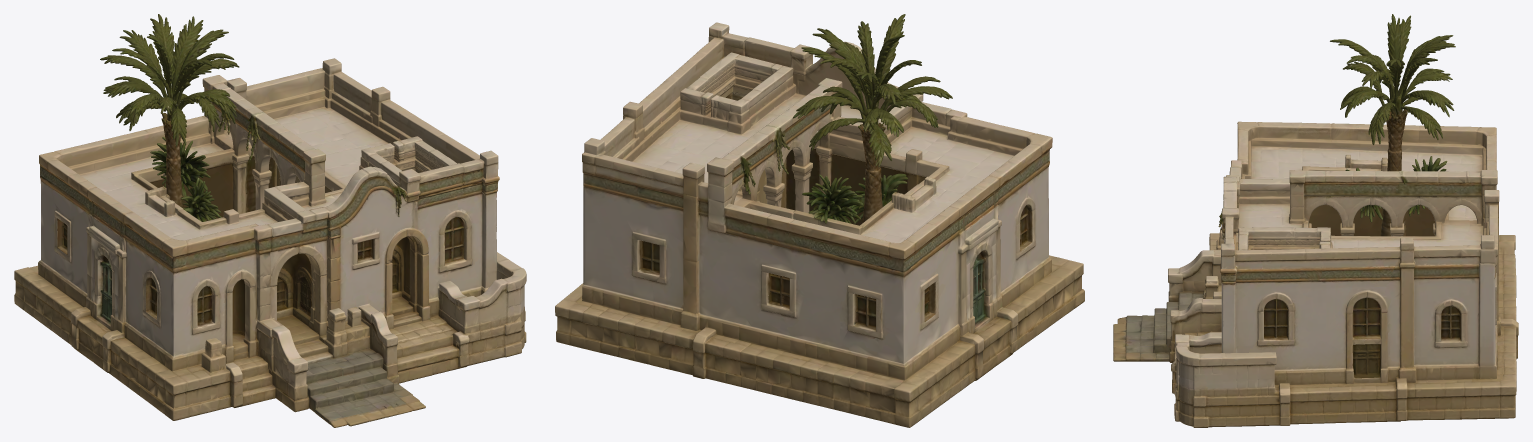
Rendered from persian.glb.
The picture shows the model from 3 angles, left to right: view 1: azimuth 30°, elevation 25°; view 2: azimuth 150°, elevation 25°; view 3: azimuth 270°, elevation 25°; orthographic projection. The views are drawn at different scales.
Visible parts, largest first — view 1: tripo_node_779a42a5-3d8c-4d10-8275-2e747a615f7a; view 2: tripo_node_779a42a5-3d8c-4d10-8275-2e747a615f7a; view 3: tripo_node_779a42a5-3d8c-4d10-8275-2e747a615f7a.
Part boxes in pixels (box(x1,y1,x2,y2)): tripo_node_779a42a5-3d8c-4d10-8275-2e747a615f7a: box(14, 14, 526, 427); tripo_node_779a42a5-3d8c-4d10-8275-2e747a615f7a: box(555, 14, 1084, 427); tripo_node_779a42a5-3d8c-4d10-8275-2e747a615f7a: box(1113, 14, 1518, 427).
Size of the model in its own units: 0.9309 by 0.7608 by 0.9793.
Materials: 1 (1 with a texture image).
